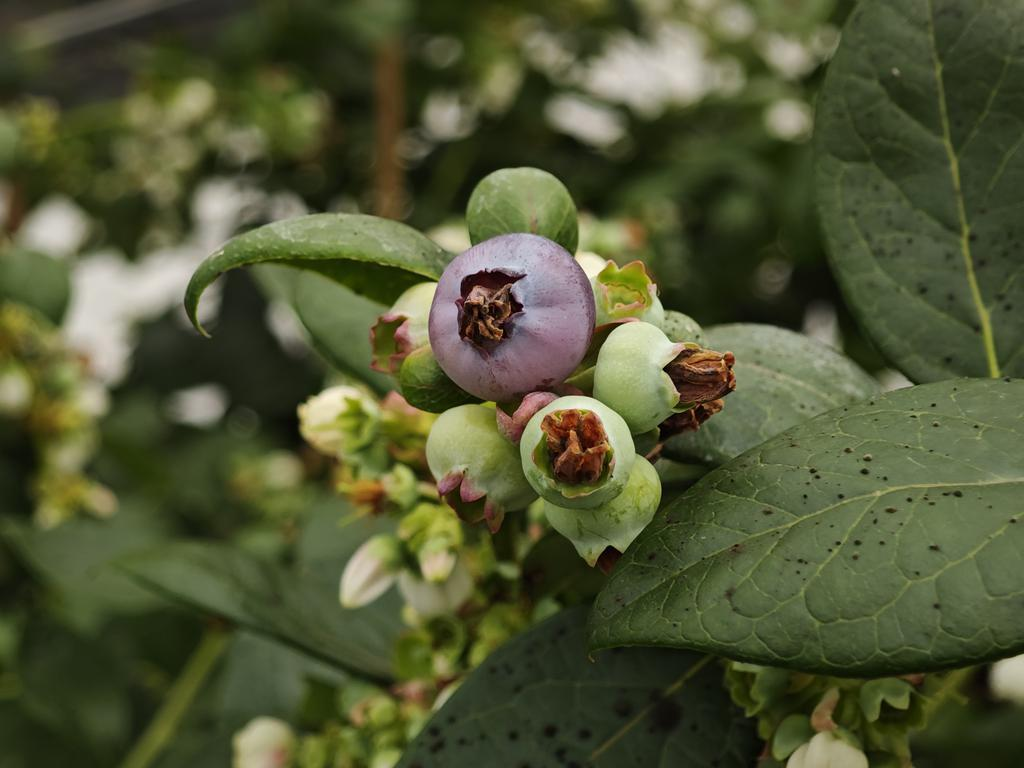Semi-RipeBlueBerry: (427, 231, 599, 402)
UnripeBlueBerry: (516, 393, 638, 514)
